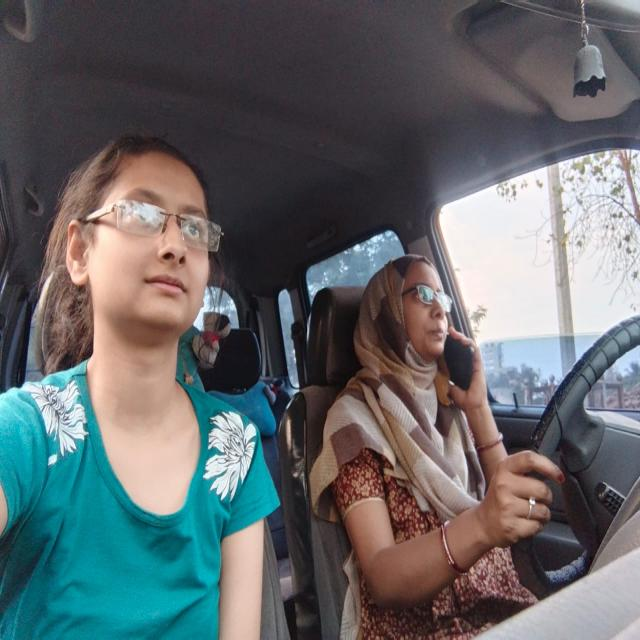mobile: (442, 334, 486, 394)
person: (51, 134, 222, 356), (355, 252, 450, 360)
